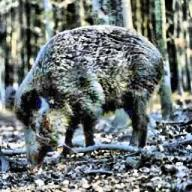boar: (13, 24, 166, 166)
